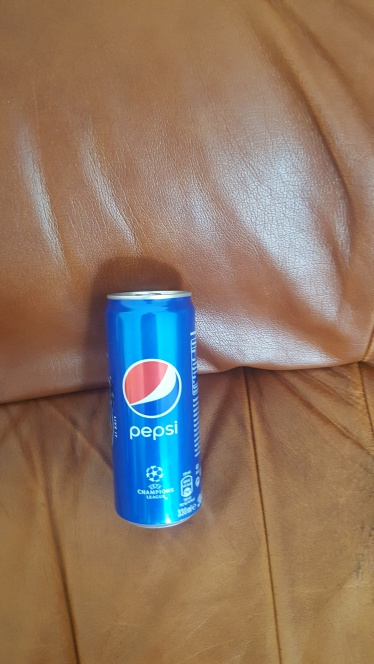pepsi: (92, 278, 214, 539)
